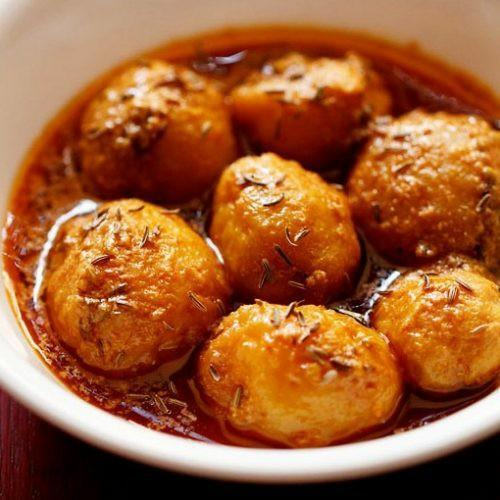DumAloo: (29, 38, 500, 448)
